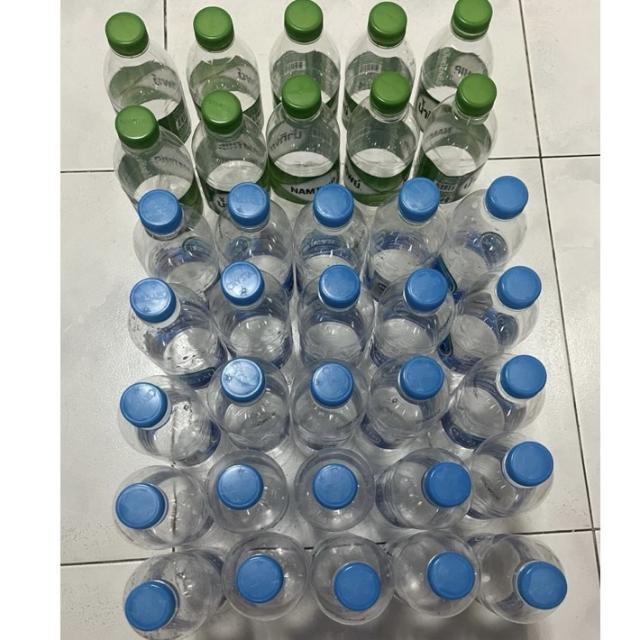PET Bottle: (79, 0, 588, 640)
